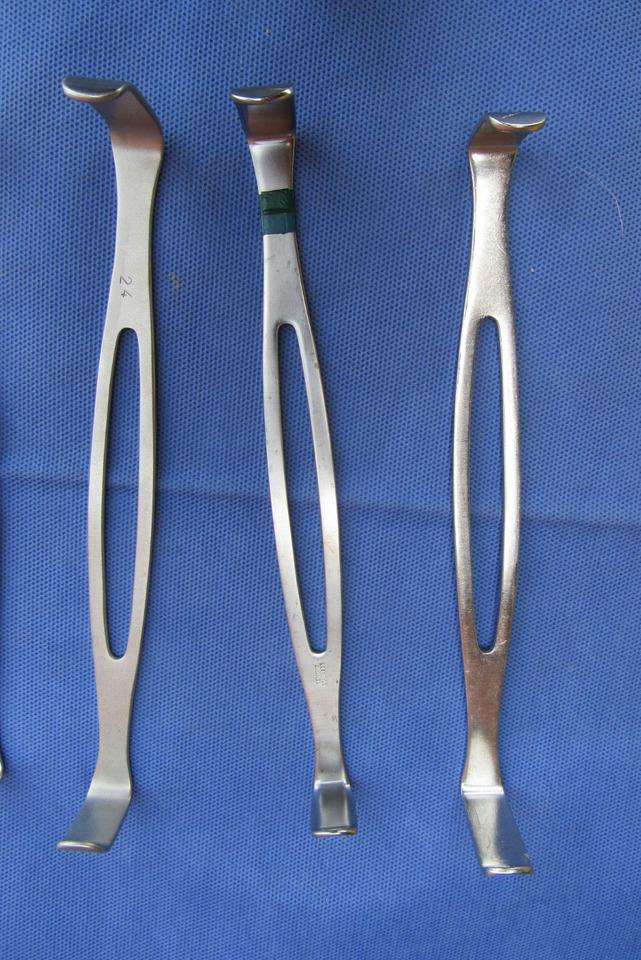Army Navy Retractor: (216, 64, 370, 860), (44, 67, 187, 874), (430, 87, 553, 891)
